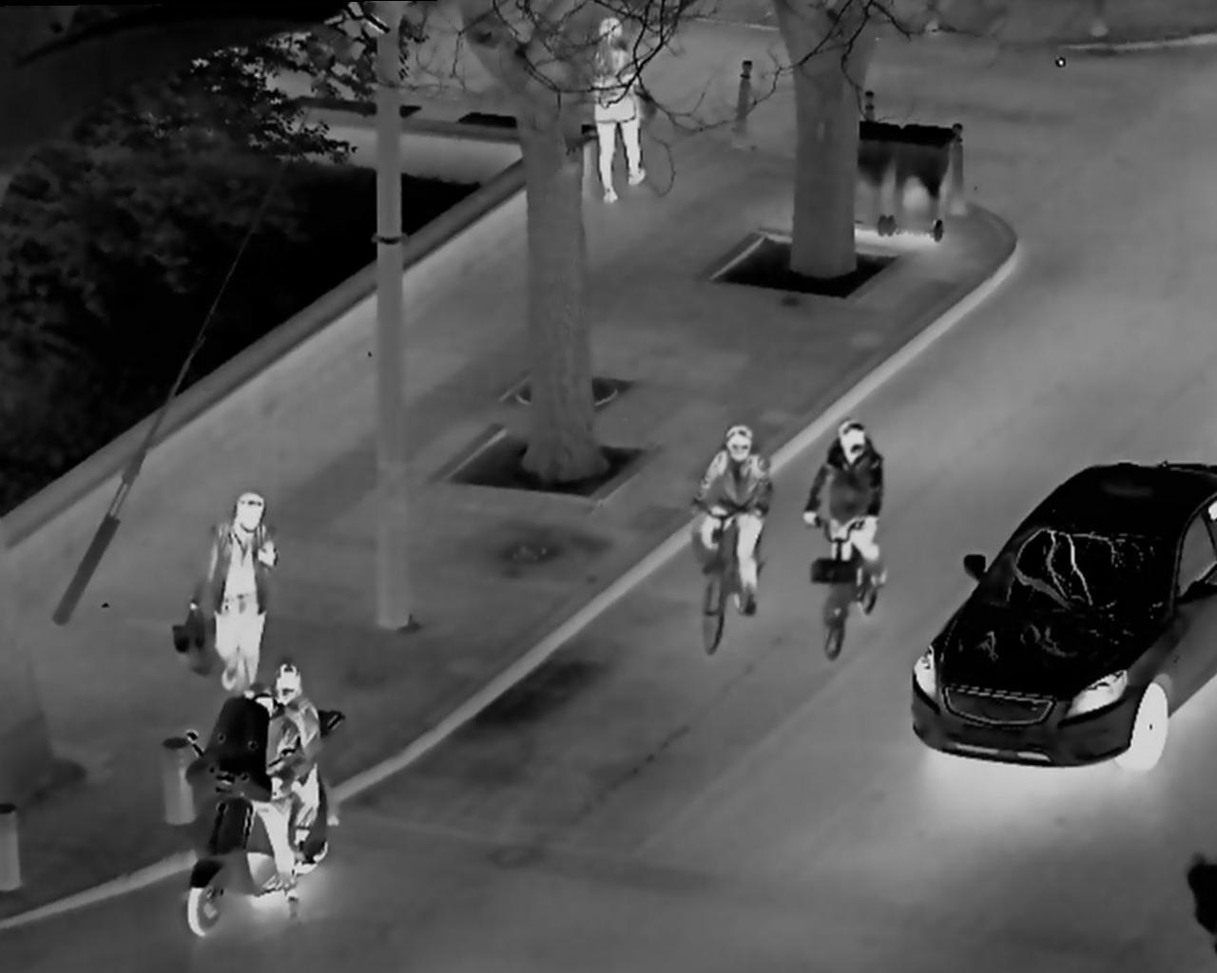person: (794, 406, 899, 655), (184, 480, 289, 691), (688, 410, 779, 648), (582, 8, 669, 202), (231, 685, 303, 900), (268, 664, 325, 875)
